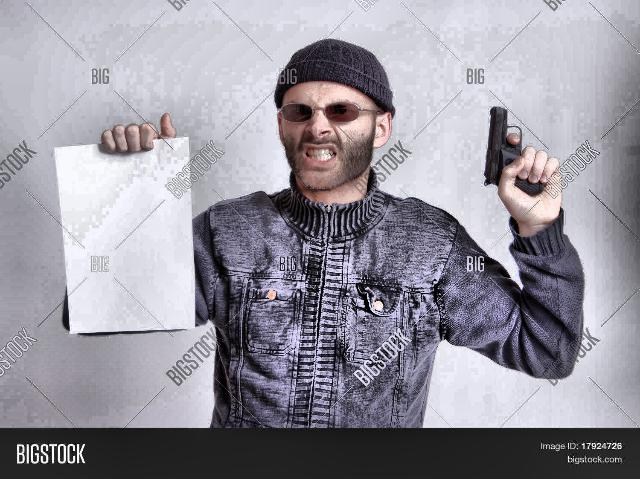pistol: (480, 105, 548, 195)
